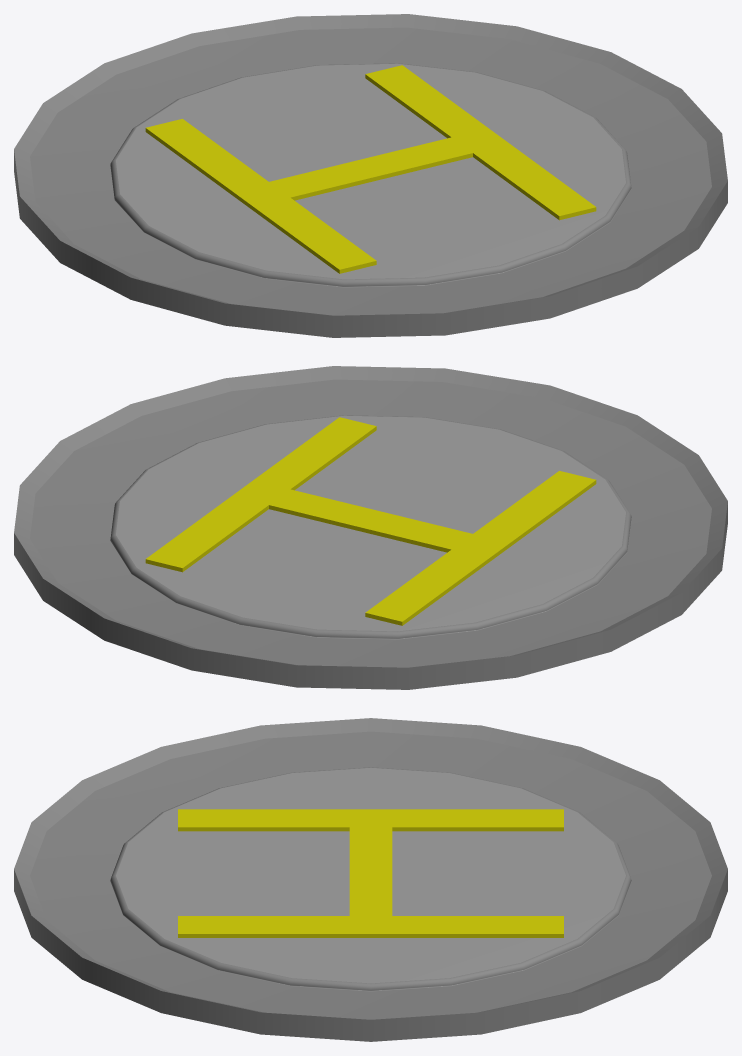
The model's file is Helipad.fbx.
3 renders of one model, top to bottom at view 1: azimuth 30°, elevation 25°; view 2: azimuth 150°, elevation 25°; view 3: azimuth 270°, elevation 25°, orthographic.
Parts seen in each view (by area): view 1: pCube29; view 2: pCube29; view 3: pCube29.
Boxes of the visible parts, x1,y1,x2,y2 form: pCube29: [14, 14, 727, 337]; pCube29: [14, 366, 727, 689]; pCube29: [14, 718, 727, 1041].
Bounding box in the file's own units: 8.55 × 0.2924 × 8.55.
